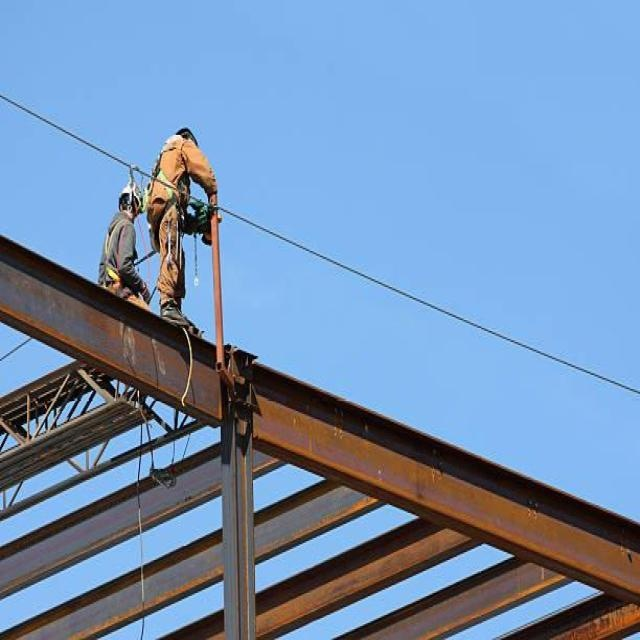Arnes_seguridad: (143, 134, 185, 241), (98, 218, 134, 288)
